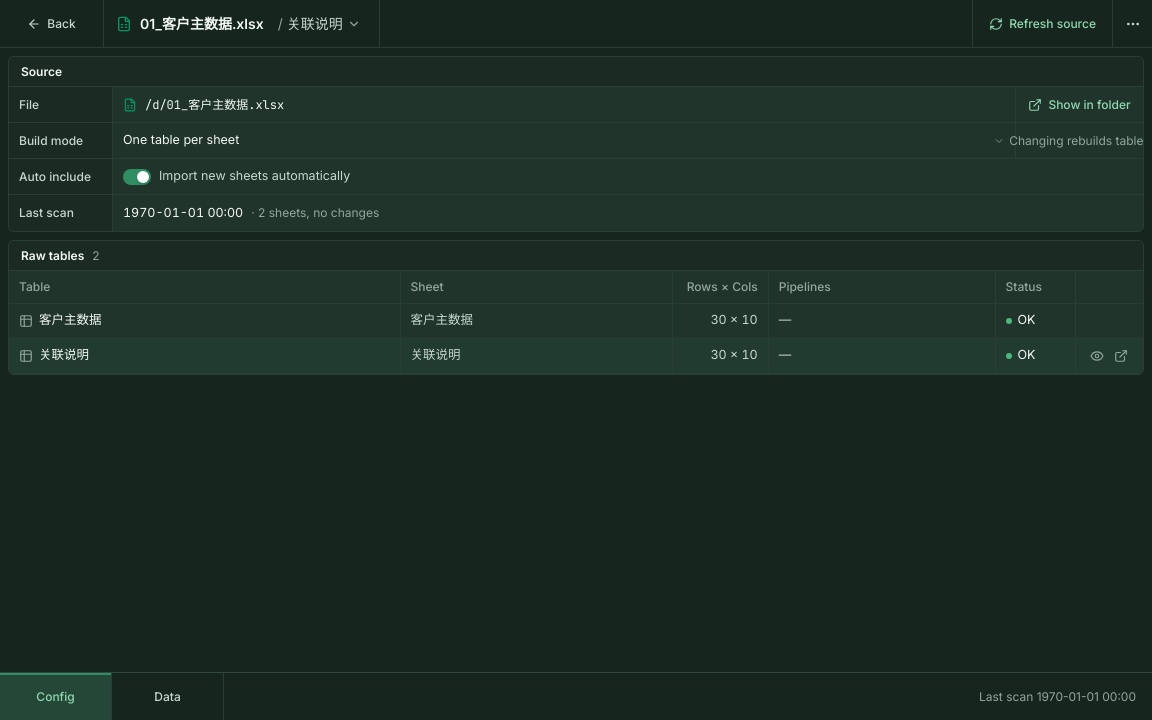
Scenario: RawSourceDetail (方案 A) › inline 组织方式 change › 保存 opens the delete confirmation, then rebuilds and reports back
The width and height of the screenshot is (1152, 720).
Select "One sheet, single table" in the dropdown with test id "raw-source-build-mode" at (564, 140), box [113,123,1015,158]
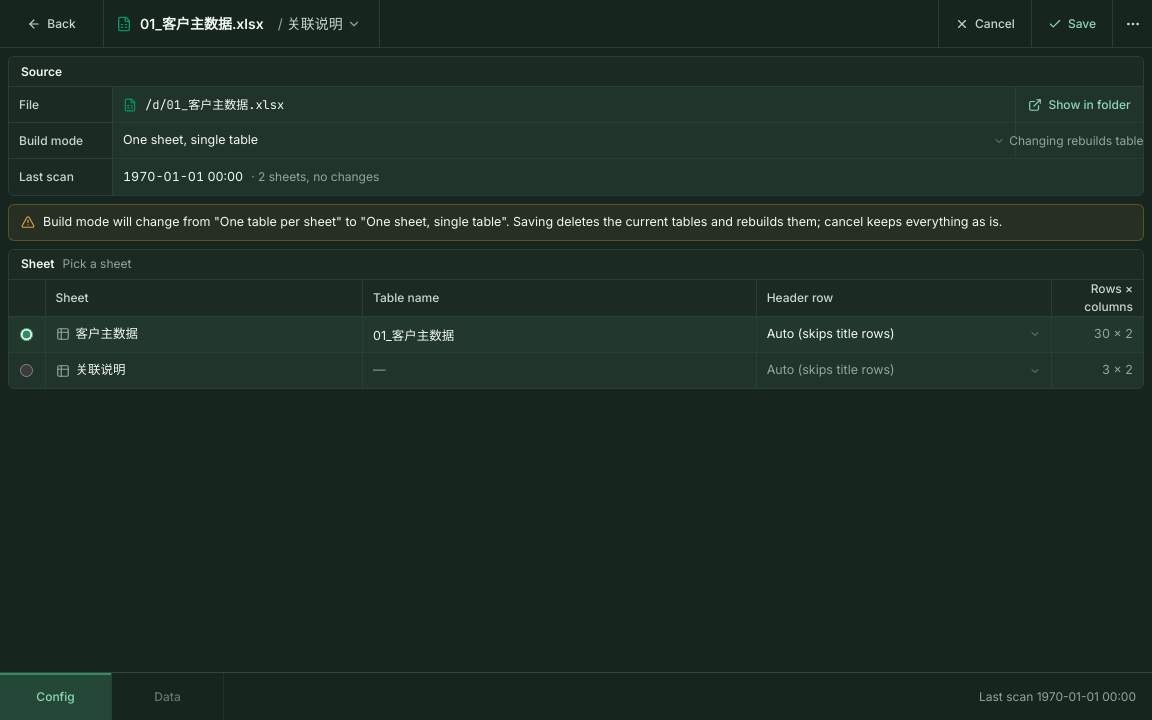
Now the button with test id "raw-source-mode-save" is enabled
Click the button with test id "raw-source-mode-save".
click(1071, 24)  # box [1031,0,1112,47]
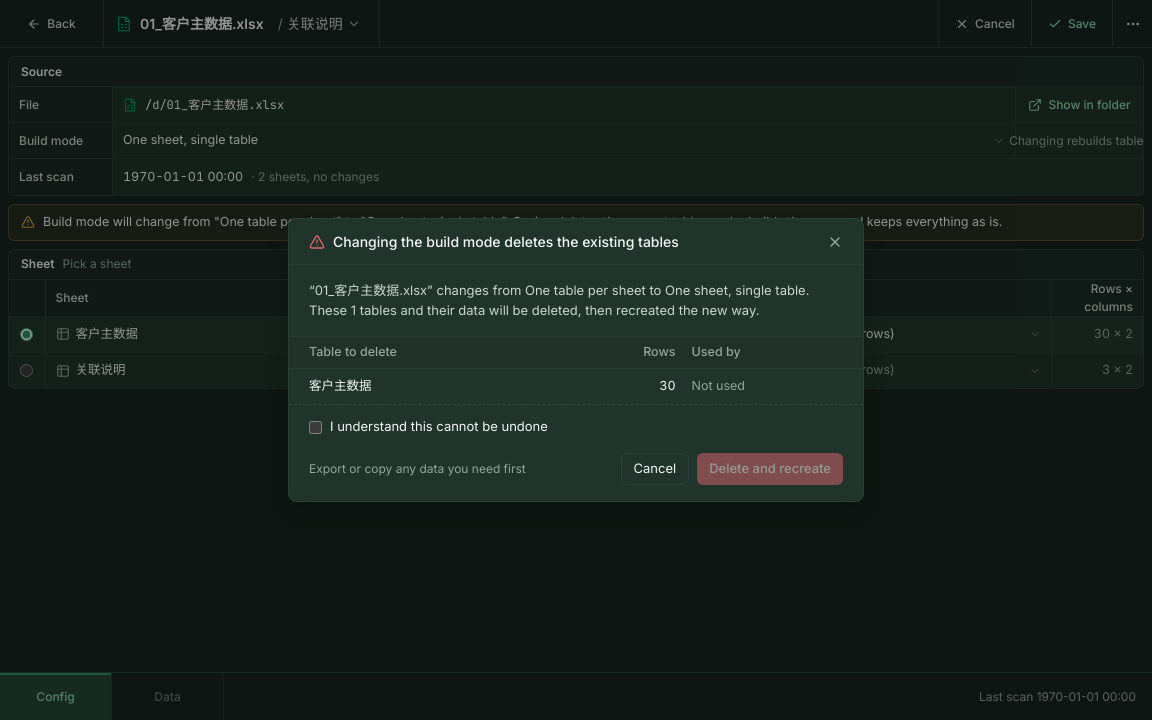
Click the checkbox with test id "raw-source-rebuild-ack".
click(316, 427)  # box [309,420,322,434]
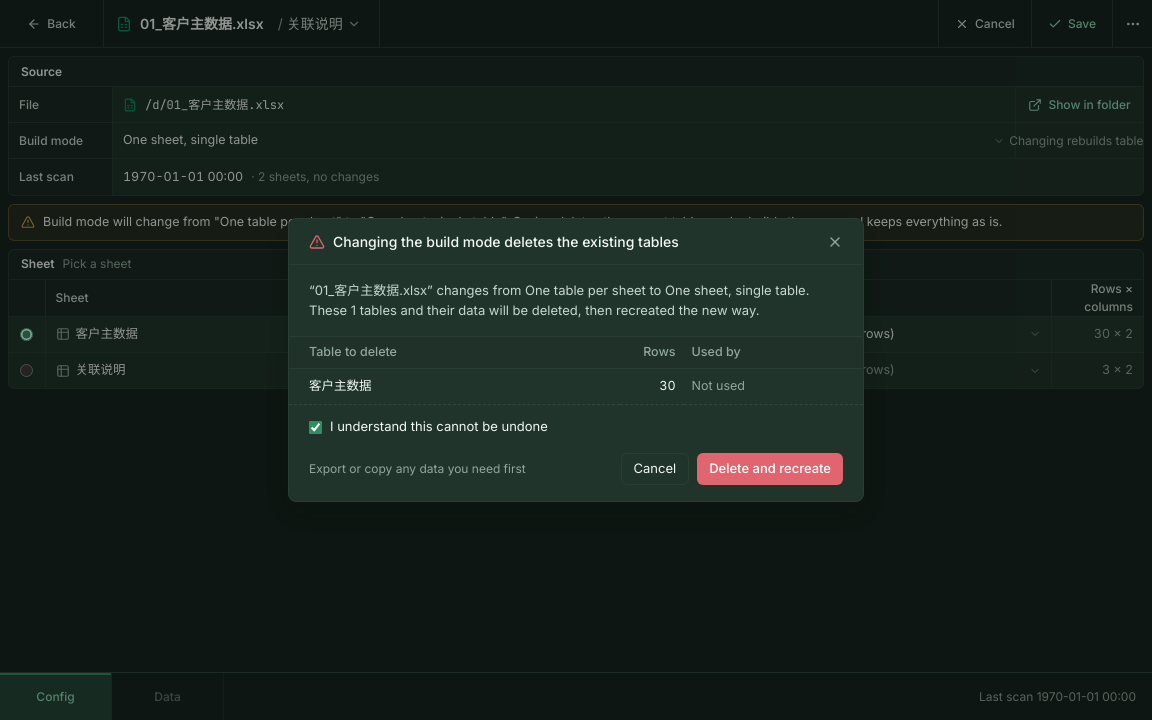
Click the button with test id "raw-source-rebuild-confirm".
click(770, 469)  # box [697,453,843,485]
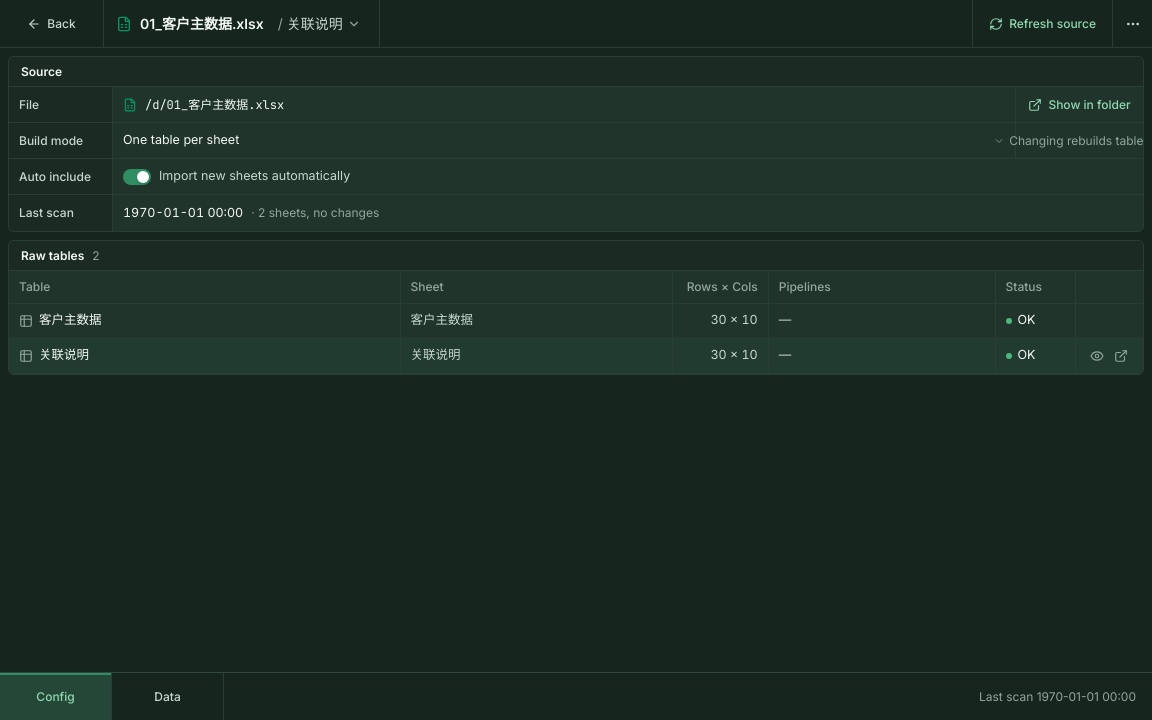
Now the element with test id "raw-source-mode-change" is gone
